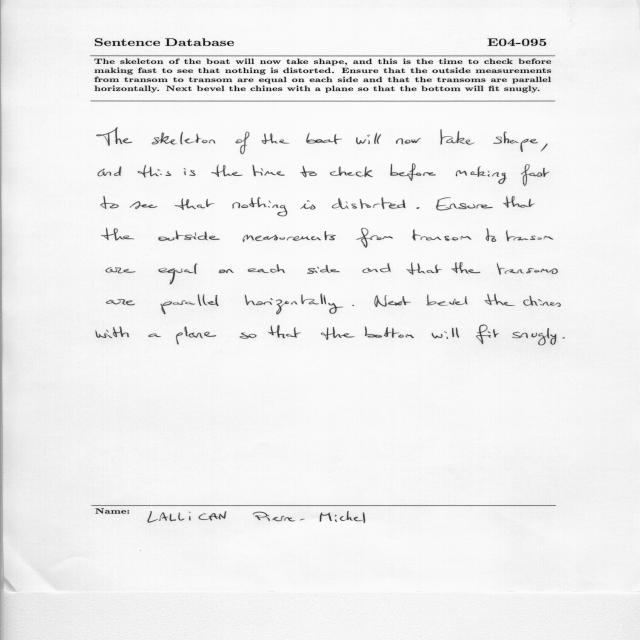word: (245, 294, 343, 314), (161, 294, 219, 314), (233, 197, 288, 217), (242, 231, 336, 242), (456, 166, 507, 184), (493, 132, 538, 152), (332, 197, 406, 209), (152, 132, 216, 145), (159, 263, 198, 284), (390, 164, 436, 181), (512, 328, 556, 345), (436, 198, 493, 211), (497, 263, 558, 275), (357, 228, 393, 248), (176, 327, 216, 345), (413, 229, 472, 241), (158, 230, 220, 241), (521, 164, 550, 186), (97, 128, 132, 146), (364, 327, 414, 338), (441, 129, 475, 145), (506, 231, 553, 242), (175, 198, 215, 210), (330, 166, 373, 177), (407, 262, 442, 275), (427, 295, 468, 306), (374, 295, 411, 307), (321, 327, 355, 340), (476, 325, 499, 344), (268, 325, 301, 338), (523, 296, 561, 307), (211, 164, 243, 177), (102, 228, 134, 241), (95, 327, 129, 339), (306, 133, 342, 144), (138, 165, 171, 177), (503, 196, 535, 208), (252, 165, 285, 176), (485, 294, 515, 306), (451, 262, 480, 274), (248, 264, 285, 273), (432, 327, 459, 339), (236, 132, 250, 154), (262, 133, 290, 144), (307, 265, 339, 274), (363, 263, 391, 273), (356, 133, 381, 144), (101, 196, 119, 209), (98, 167, 121, 177), (130, 201, 157, 209), (300, 166, 317, 177), (106, 267, 135, 273), (107, 299, 135, 305), (486, 228, 497, 242), (396, 138, 421, 144), (301, 201, 316, 210), (240, 332, 257, 339), (184, 168, 196, 176), (219, 269, 234, 273), (148, 333, 161, 337), (541, 144, 547, 152), (416, 207, 420, 209), (562, 337, 565, 339), (352, 305, 355, 306)
